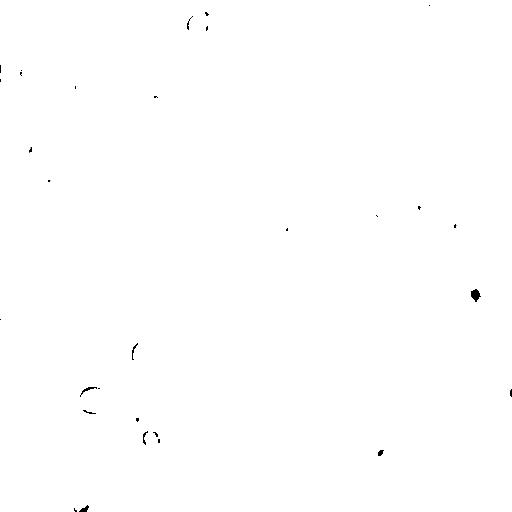micro-algae: (39, 2, 120, 84), (33, 207, 102, 279), (207, 457, 299, 511), (298, 438, 357, 499), (347, 384, 393, 431), (88, 301, 137, 345), (323, 114, 363, 160), (430, 318, 471, 357), (455, 275, 497, 313), (266, 107, 303, 145), (359, 435, 397, 469), (127, 21, 161, 56), (120, 397, 151, 433), (77, 237, 115, 266), (309, 195, 339, 231), (311, 303, 342, 337), (38, 264, 73, 294), (439, 207, 468, 243), (77, 384, 109, 415), (255, 0, 291, 27), (212, 179, 240, 213), (270, 211, 299, 243), (205, 4, 235, 34), (217, 247, 241, 283), (406, 189, 431, 223), (183, 8, 211, 37), (171, 495, 221, 511), (373, 89, 401, 117), (204, 287, 227, 321), (25, 350, 53, 375), (73, 70, 96, 98), (424, 340, 452, 363), (261, 22, 288, 45), (307, 443, 335, 465), (495, 371, 511, 408), (19, 61, 39, 90), (131, 339, 151, 368), (285, 143, 306, 170), (471, 283, 491, 311), (429, 305, 452, 329), (372, 203, 397, 224), (415, 0, 449, 15), (499, 466, 511, 507), (125, 383, 150, 401), (335, 465, 357, 485), (265, 497, 295, 511), (142, 427, 161, 449), (14, 136, 33, 157), (0, 64, 16, 87), (451, 363, 467, 383), (121, 305, 137, 323), (69, 497, 89, 511), (114, 491, 131, 507), (35, 172, 53, 185)
